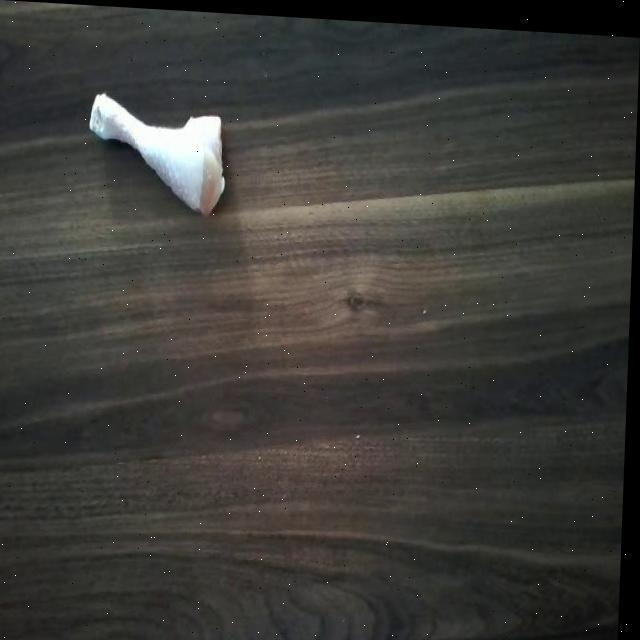leg: (77, 87, 232, 214)
